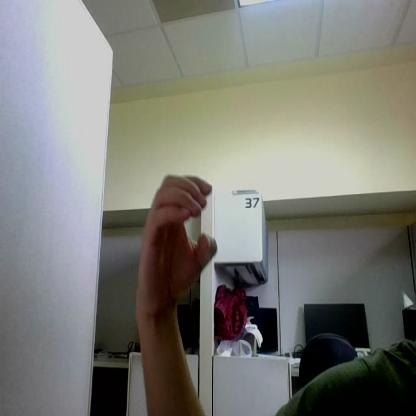C: (138, 173, 216, 314)
